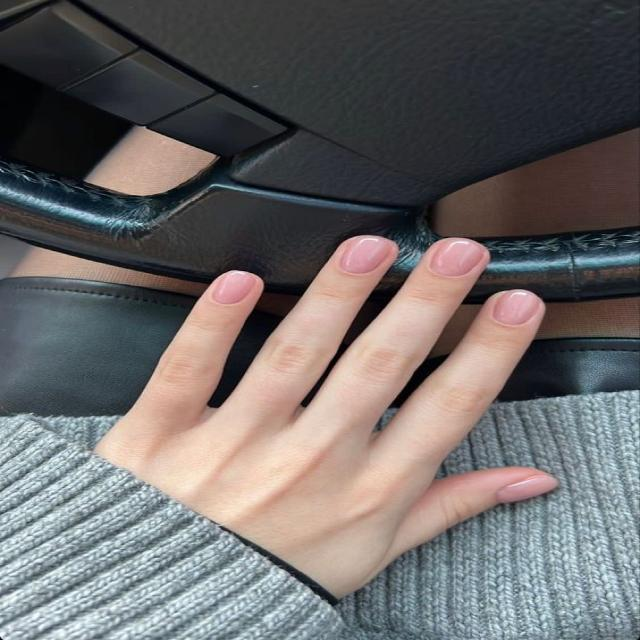Fingernail: (430, 238, 485, 277), (340, 236, 391, 273), (494, 288, 540, 327), (497, 474, 558, 503), (213, 270, 256, 307)
